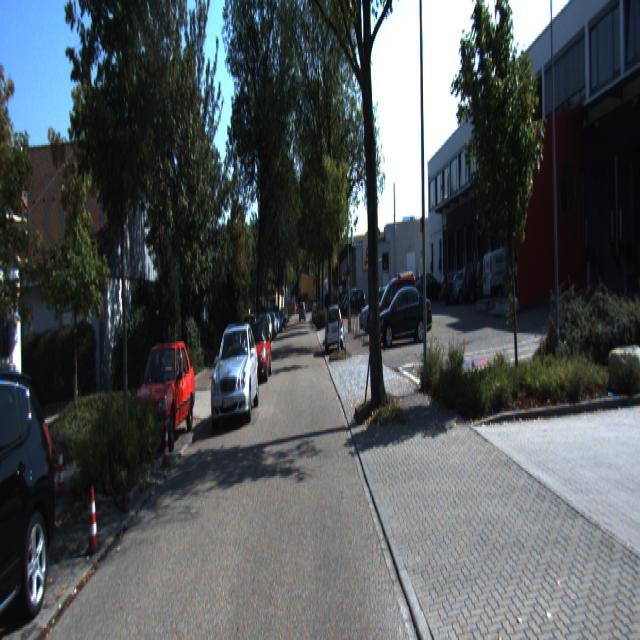Car: (0, 353, 66, 639), (127, 334, 196, 456), (207, 322, 260, 431), (375, 282, 434, 344), (372, 269, 423, 340), (481, 246, 535, 310), (244, 317, 272, 384), (325, 303, 343, 356)
